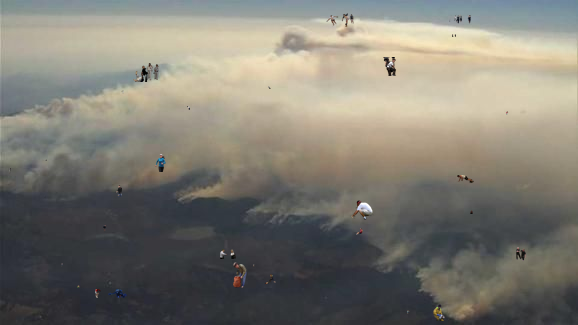Human: (133, 63, 160, 82), (383, 57, 409, 76), (229, 262, 247, 289), (350, 200, 374, 220), (326, 13, 354, 27), (449, 14, 471, 24), (433, 304, 445, 321), (155, 154, 166, 172), (108, 289, 128, 298), (220, 249, 236, 259), (516, 247, 526, 261), (457, 175, 474, 183), (265, 274, 276, 284), (115, 185, 122, 197), (95, 289, 102, 298), (356, 228, 363, 235), (103, 225, 106, 232), (407, 310, 410, 314), (506, 111, 509, 115), (187, 106, 190, 110), (9, 168, 11, 174), (121, 90, 124, 94), (470, 210, 473, 214), (452, 34, 456, 37), (61, 263, 63, 268), (42, 159, 47, 161), (44, 195, 46, 200), (253, 264, 255, 269), (268, 86, 271, 89), (77, 285, 80, 288)
